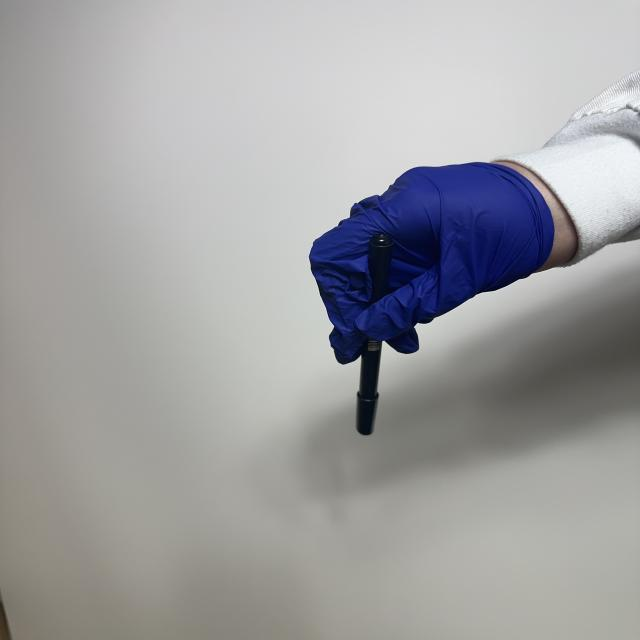glove_partial: (309, 161, 588, 362)
